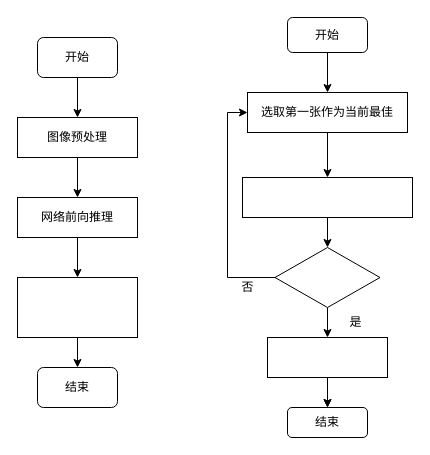
This 430x455 diagram has some shape labels left out. Here are the shapes that lost their labels. From the top down, the centre of each, then its label:
At (x=327, y=197): "选取下一张图像，将当前最佳与选取图像对比，更新当前最佳".
At (x=327, y=277): "是否最后一张".
At (x=77, y=307): "后处理（比较类别得分，输出最佳机动车图像框）".
At (x=327, y=357): "输出最佳图像".
